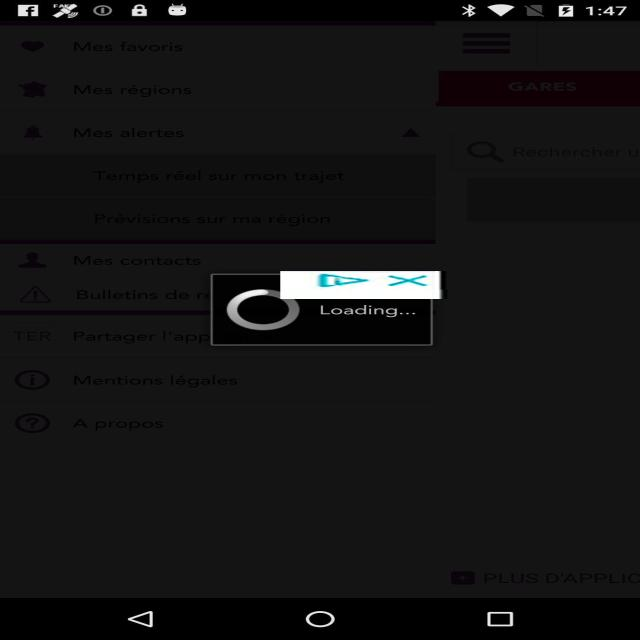sneaking: (280, 271, 448, 299)
